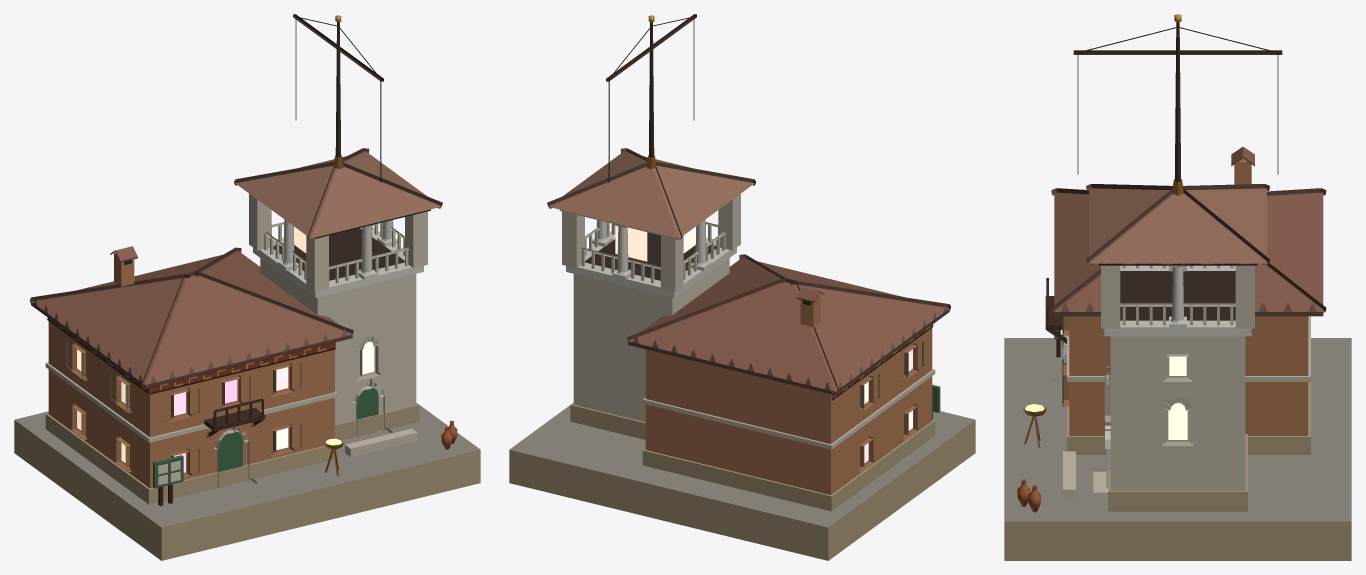
Rendered from harbourmaster.glb.
3 renders of one model, left to right at view 1: azimuth 30°, elevation 25°; view 2: azimuth 150°, elevation 25°; view 3: azimuth 270°, elevation 25°, orthographic. The views are drawn at different scales.
Parts seen in each view (by area): view 1: harbourmaster_body, harbourmaster_body_windows; view 2: harbourmaster_body, harbourmaster_body_windows; view 3: harbourmaster_body, harbourmaster_body_windows.
Boxes of the visible parts, left/top/right/bottom form: harbourmaster_body: left=14, top=14, right=480, bottom=560; harbourmaster_body_windows: left=77, top=226, right=374, bottom=472; harbourmaster_body: left=509, top=14, right=975, bottom=560; harbourmaster_body_windows: left=615, top=225, right=912, bottom=463; harbourmaster_body: left=1004, top=14, right=1351, bottom=560; harbourmaster_body_windows: left=1168, top=356, right=1187, bottom=439.
Bounding box in the file's own units: 20 × 25.8 × 16.
